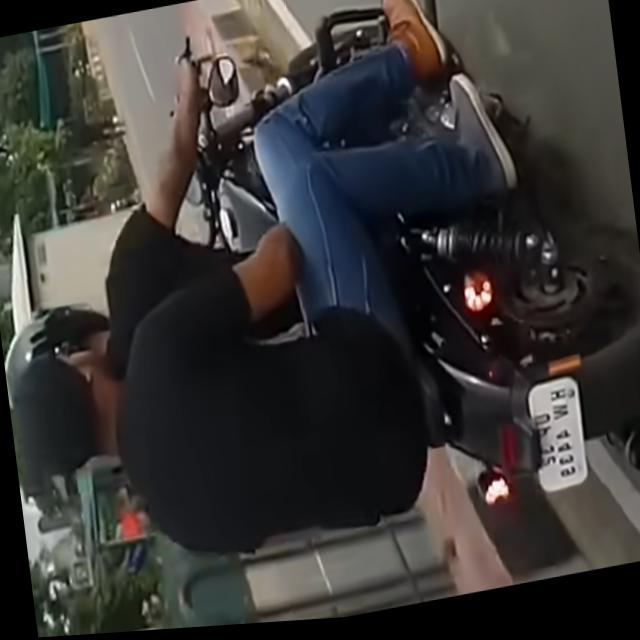normal: (0, 83, 609, 575)
